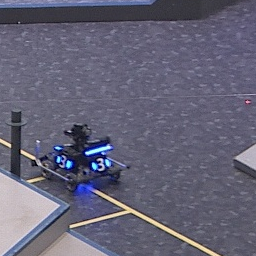Blue: (88, 157, 112, 171), (54, 153, 72, 169)
Robot: (32, 122, 131, 189)
